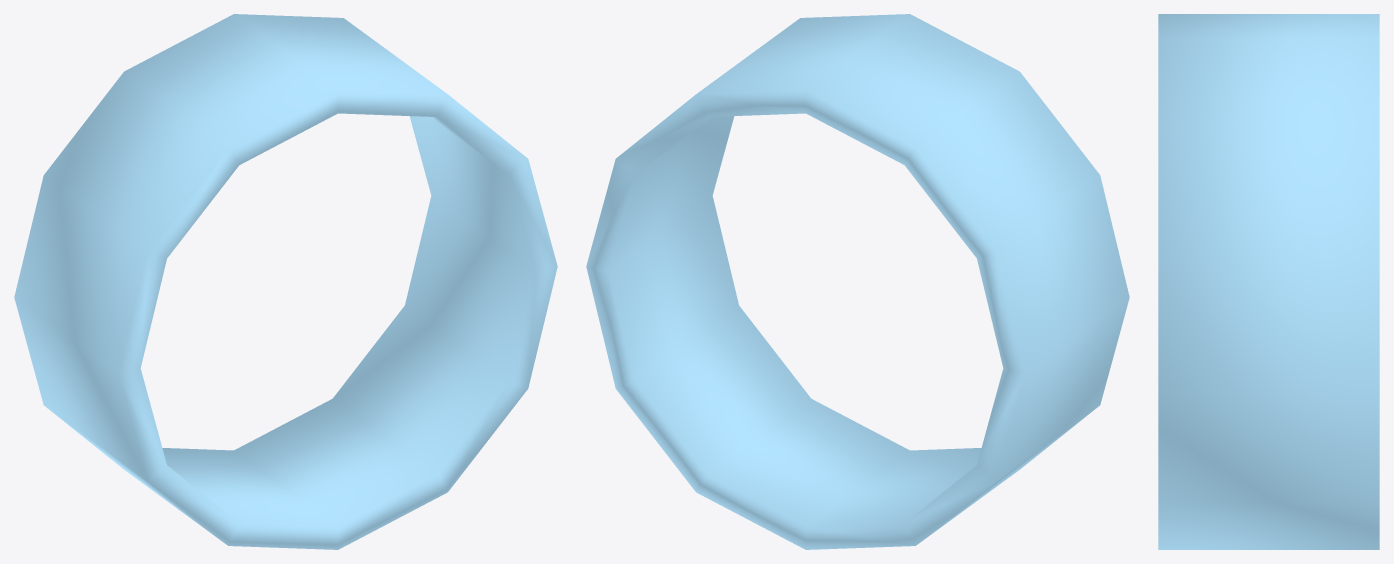
File: mouse_wheel.glb
The picture shows the model from 3 angles, left to right: view 1: azimuth 30°, elevation 25°; view 2: azimuth 150°, elevation 25°; view 3: azimuth 270°, elevation 25°; orthographic projection. The views are drawn at different scales.
Visible parts, largest first — view 1: Wheel; view 2: Wheel; view 3: Wheel.
Part boxes in pixels (bbox=[...]): Wheel: bbox=[14, 14, 557, 549]; Wheel: bbox=[586, 14, 1129, 549]; Wheel: bbox=[1158, 14, 1379, 549].
Size of the model in its own units: 2 by 2 by 0.8222.
